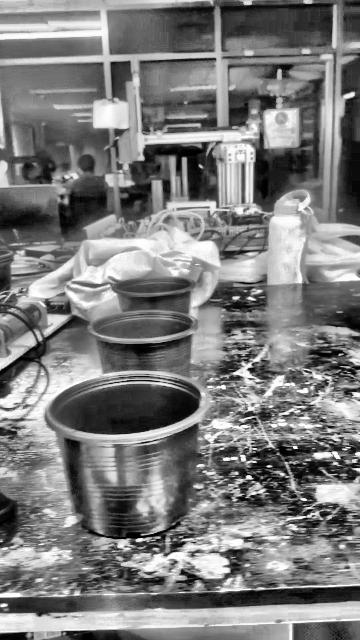pot: (44, 372, 203, 540), (88, 310, 197, 377), (114, 276, 195, 313)
